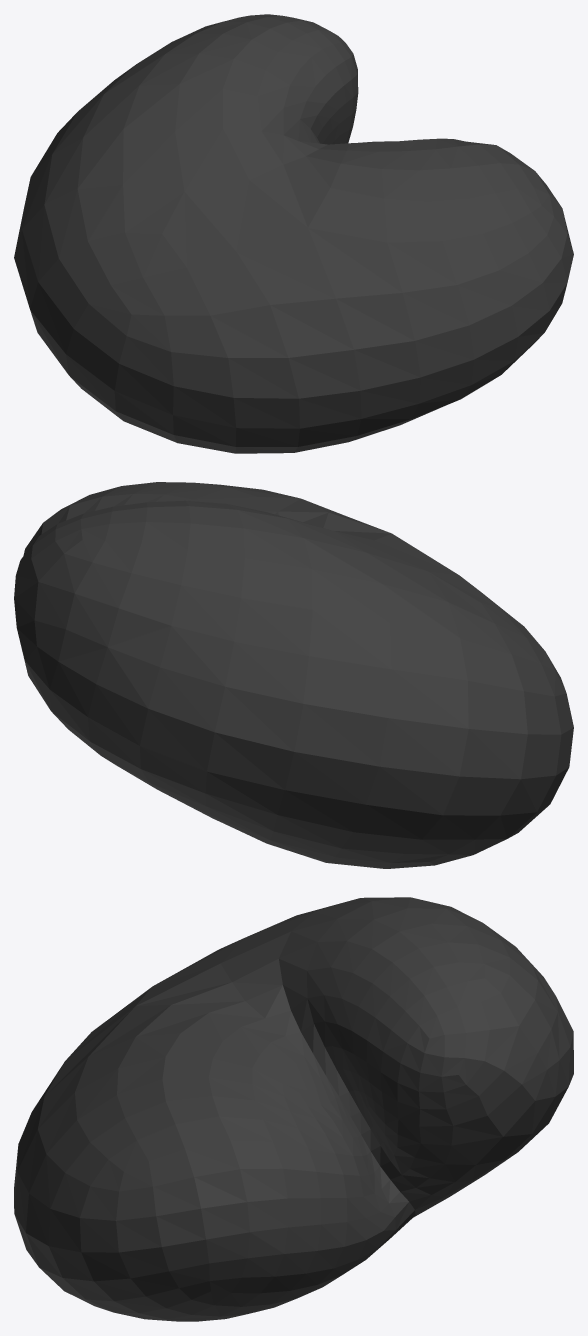
Rendered from Kidney_R.glb.
3 renders of one model, top to bottom at view 1: azimuth 30°, elevation 25°; view 2: azimuth 150°, elevation 25°; view 3: azimuth 270°, elevation 25°, orthographic. The views are drawn at different scales.
Visible parts, largest first — view 1: Kidney_R; view 2: Kidney_R; view 3: Kidney_R.
Part boxes in pixels (x1,y1,x2,y2): Kidney_R: (14, 14, 573, 453); Kidney_R: (14, 482, 573, 868); Kidney_R: (14, 897, 573, 1321).
Bounding box in the file's own units: 0.2243 × 0.1458 × 0.2001.
Materials: 1 (1 with a texture image).
